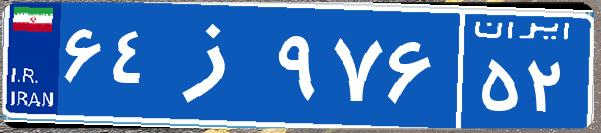2: (525, 38, 570, 115)
4: (110, 28, 158, 105)
5: (475, 38, 525, 113)
6: (385, 28, 445, 110), (57, 26, 110, 107)
7: (330, 28, 385, 110)
9: (273, 28, 330, 110)
ز: (158, 15, 273, 115)
